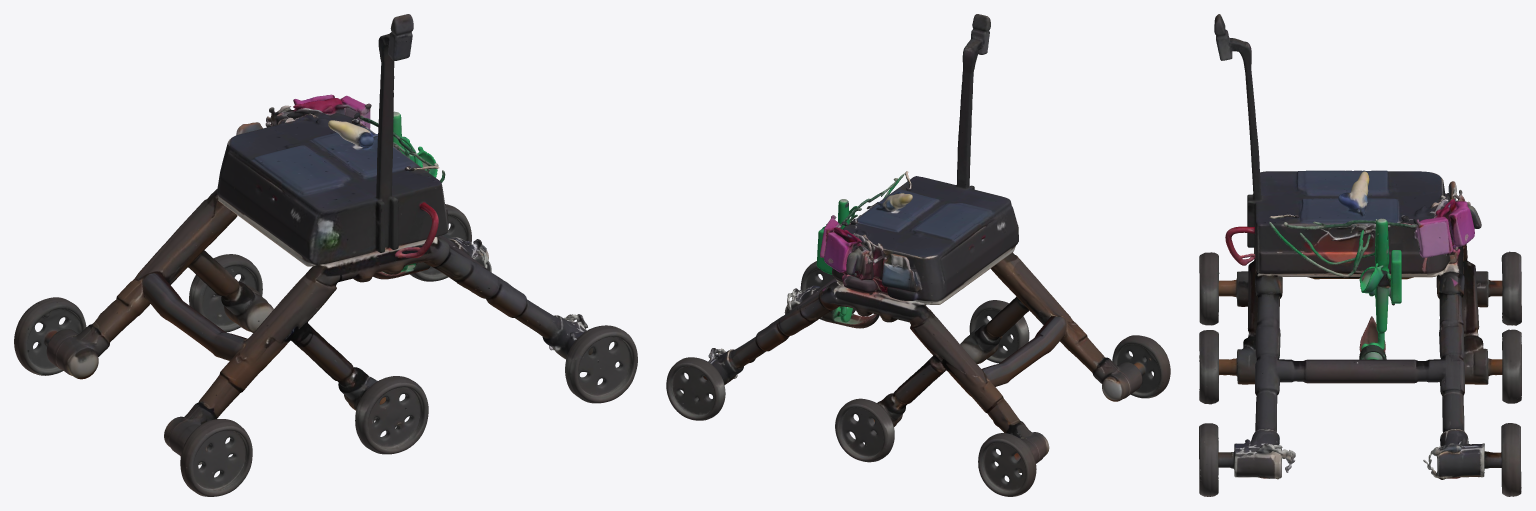
Rendered from rover.glb.
3 renders of one model, left to right at view 1: azimuth 30°, elevation 25°; view 2: azimuth 150°, elevation 25°; view 3: azimuth 270°, elevation 25°, orthographic. The views are drawn at different scales.
Parts seen in each view (by area): view 1: tripo_part_0, tripo_part_3, tripo_part_2, tripo_part_7, tripo_part_6, tripo_part_14, tripo_part_4, tripo_part_11, tripo_part_15, tripo_part_8, tripo_part_13, tripo_part_5 (+1 smaller); view 2: tripo_part_0, tripo_part_7, tripo_part_5, tripo_part_6, tripo_part_4, tripo_part_14, tripo_part_2, tripo_part_8, tripo_part_10, tripo_part_9, tripo_part_13, tripo_part_11 (+3 smaller); view 3: tripo_part_0, tripo_part_3, tripo_part_5, tripo_part_9, tripo_part_1, tripo_part_13, tripo_part_2, tripo_part_15, tripo_part_7, tripo_part_6, tripo_part_8, tripo_part_16 (+1 smaller).
Boxes of the visible parts, x1=… form: tripo_part_0: x1=217, y1=14, x2=448, y2=285; tripo_part_3: x1=424, y1=235, x2=637, y2=403; tripo_part_2: x1=292, y1=320, x2=428, y2=454; tripo_part_7: x1=164, y1=402, x2=252, y2=496; tripo_part_6: x1=14, y1=297, x2=109, y2=379; tripo_part_14: x1=198, y1=271, x2=336, y2=418; tripo_part_4: x1=92, y1=199, x2=237, y2=343; tripo_part_11: x1=141, y1=272, x2=247, y2=360; tripo_part_15: x1=188, y1=250, x2=273, y2=332; tripo_part_8: x1=189, y1=254, x2=262, y2=332; tripo_part_13: x1=266, y1=94, x2=438, y2=166; tripo_part_5: x1=410, y1=204, x2=491, y2=292; tripo_part_0: x1=832, y1=14, x2=1018, y2=304; tripo_part_7: x1=1092, y1=335, x2=1170, y2=401; tripo_part_5: x1=666, y1=348, x2=743, y2=420; tripo_part_6: x1=978, y1=421, x2=1049, y2=496; tripo_part_4: x1=910, y1=314, x2=1020, y2=433; tripo_part_14: x1=991, y1=254, x2=1105, y2=372; tripo_part_2: x1=960, y1=297, x2=1029, y2=364; tripo_part_8: x1=835, y1=398, x2=894, y2=462; tripo_part_10: x1=835, y1=274, x2=933, y2=325; tripo_part_9: x1=731, y1=282, x2=839, y2=368; tripo_part_13: x1=820, y1=178, x2=897, y2=280; tripo_part_11: x1=982, y1=315, x2=1067, y2=386; tripo_part_0: x1=1214, y1=14, x2=1456, y2=277; tripo_part_3: x1=1199, y1=274, x2=1447, y2=496; tripo_part_5: x1=1423, y1=423, x2=1521, y2=496; tripo_part_9: x1=1436, y1=271, x2=1464, y2=432; tripo_part_1: x1=1299, y1=218, x2=1401, y2=359; tripo_part_13: x1=1283, y1=190, x2=1481, y2=257; tripo_part_2: x1=1199, y1=258, x2=1257, y2=404; tripo_part_15: x1=1461, y1=255, x2=1488, y2=384; tripo_part_7: x1=1199, y1=252, x2=1248, y2=325; tripo_part_6: x1=1476, y1=251, x2=1521, y2=325; tripo_part_8: x1=1488, y1=329, x2=1521, y2=403; tripo_part_16: x1=1269, y1=222, x2=1370, y2=277.
Size of the model in its own units: 0.7988 by 0.7224 by 0.5416.
19 materials, 19 textured.
